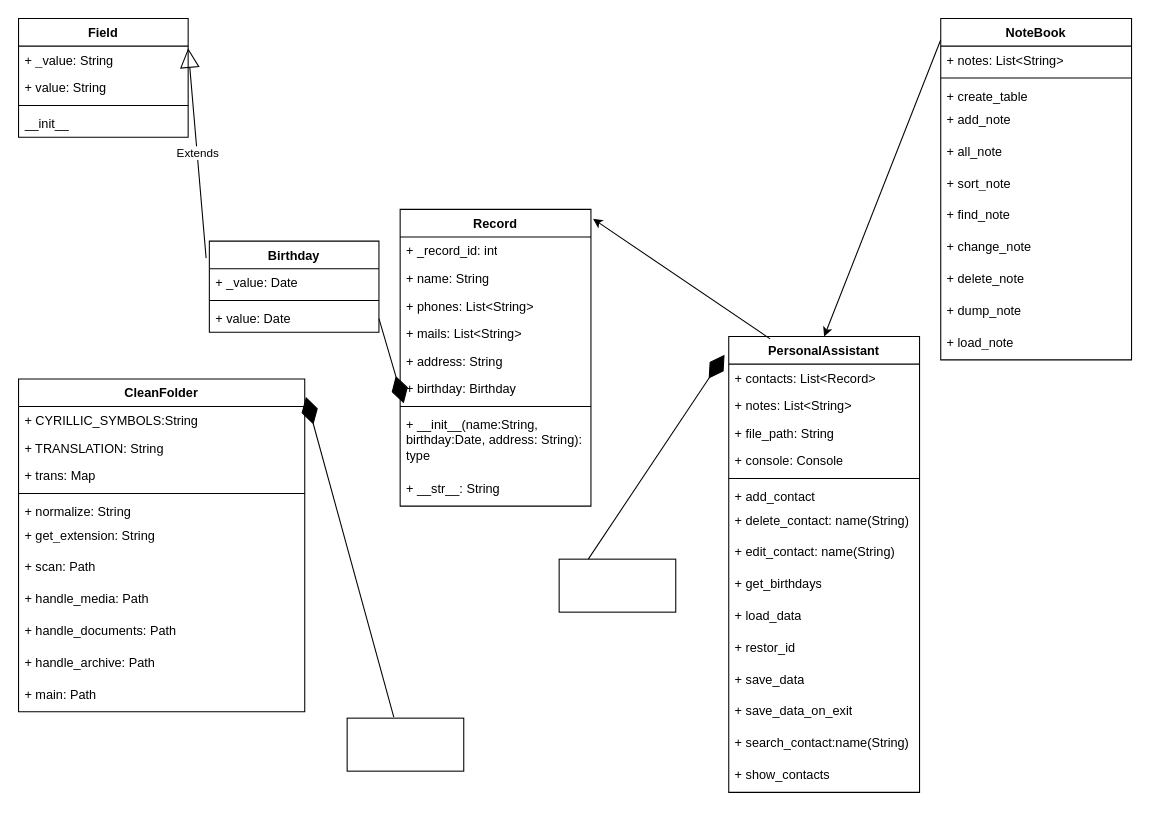
Image size: 1150x814. Some labels were removed from this diagram. Here are the shapes that lost their labels. From the top down, the centre of each, then its label:
At (617,585): "Console".
At (405,744): "Path".
